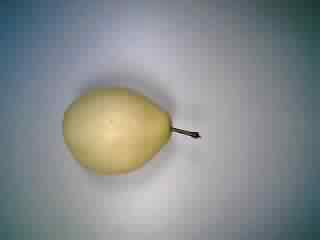pear: (53, 79, 208, 178)
